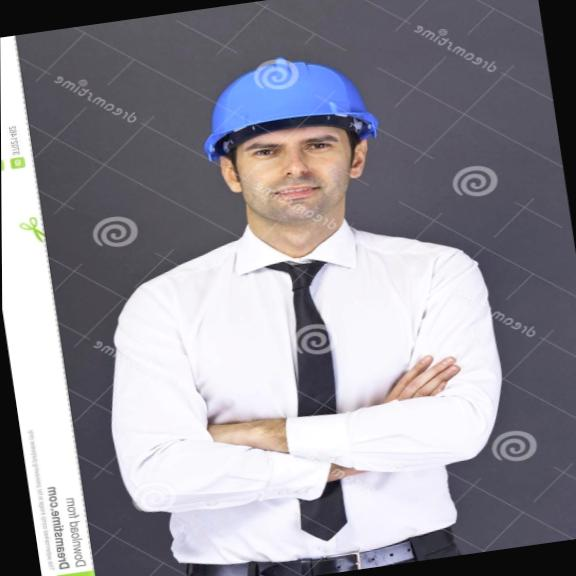no_safety_vest: (93, 193, 527, 576)
